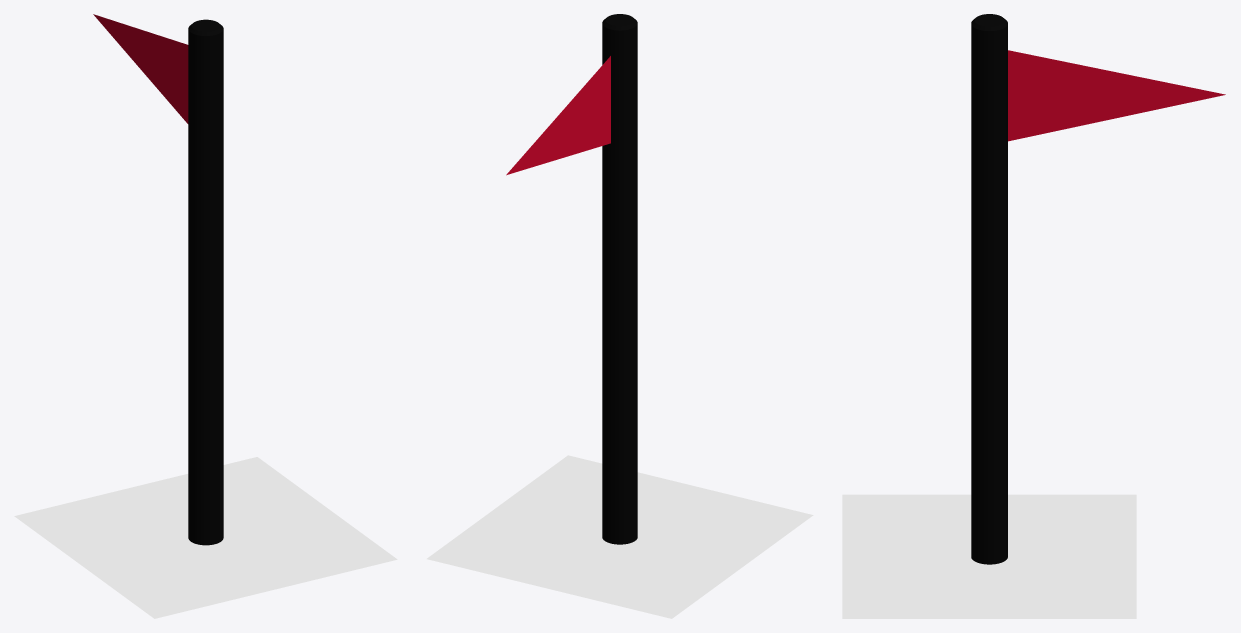
File: Flag.fbx
The picture shows the model from 3 angles, left to right: view 1: azimuth 30°, elevation 25°; view 2: azimuth 150°, elevation 25°; view 3: azimuth 270°, elevation 25°; orthographic projection. The views are drawn at different scales.
Parts seen in each view (by area): view 1: Base, Pole, Flag; view 2: Base, Pole, Flag; view 3: Base, Pole, Flag.
Boxes of the visible parts, x1,y1,x2,y2 form: Base: [14, 457, 397, 618]; Pole: [188, 19, 223, 545]; Flag: [93, 14, 188, 123]; Base: [427, 455, 813, 618]; Pole: [602, 14, 637, 544]; Flag: [506, 56, 610, 175]; Base: [842, 494, 1136, 618]; Pole: [971, 14, 1007, 564]; Flag: [1008, 50, 1225, 141].
Bounding box in the file's own units: 400 × 812 × 522.
